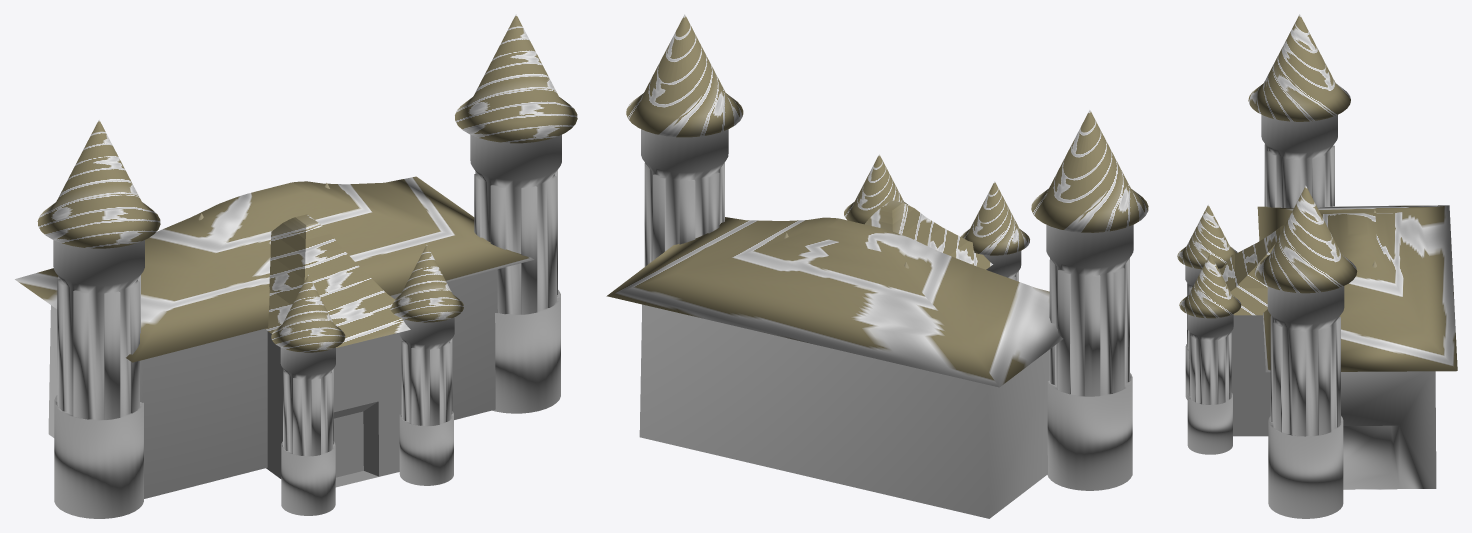
The model's file is castelo2.fbx.
3 views of the same model, side by side, from view 1: azimuth 30°, elevation 25°; view 2: azimuth 150°, elevation 25°; view 3: azimuth 270°, elevation 25° (orthographic). The views are drawn at different scales.
Visible parts, largest first — view 1: Cube_001; view 2: Cube_001; view 3: Cube_001.
Part boxes in pixels (box(x1,y1,x2,y2)): Cube_001: box(15, 14, 577, 518); Cube_001: box(606, 14, 1148, 518); Cube_001: box(1177, 14, 1457, 518).
Size of the model in its own units: 12.2 by 8.46 by 6.73.
Materials: 3 (2 with a texture image).
